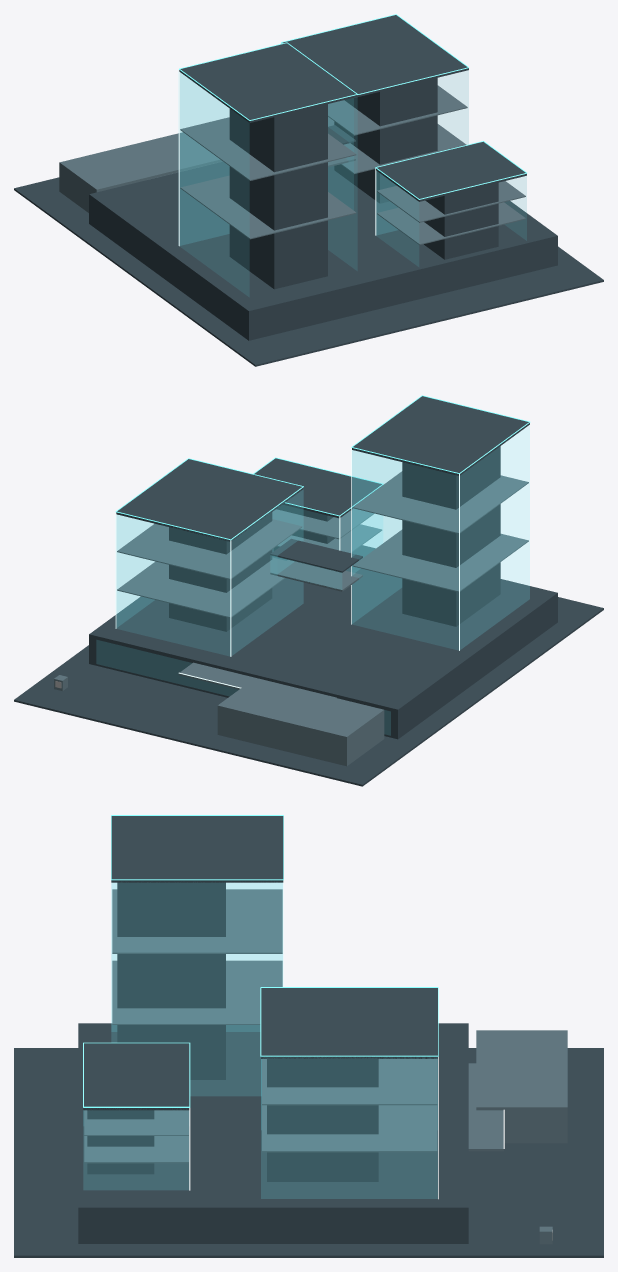
Rendered from commercial_buildings.lod1.glb.
3 renders of one model, top to bottom at view 1: azimuth 30°, elevation 25°; view 2: azimuth 150°, elevation 25°; view 3: azimuth 270°, elevation 25°, orthographic. The views are drawn at different scales.
Visible parts, largest first — view 1: commercial_buildings_graphite.001, commercial_buildings_glass.001, commercial_buildings_graphite_light.001, commercial_buildings_edge.001, commercial_buildings_white.001; view 2: commercial_buildings_graphite.001, commercial_buildings_glass.001, commercial_buildings_graphite_light.001, commercial_buildings_edge.001, commercial_buildings_white.001; view 3: commercial_buildings_graphite.001, commercial_buildings_glass.001, commercial_buildings_graphite_light.001, commercial_buildings_edge.001.
Part boxes in pixels (left/top/right/bottom): commercial_buildings_graphite.001: left=14, top=15, right=603, bottom=366; commercial_buildings_glass.001: left=179, top=70, right=526, bottom=296; commercial_buildings_graphite_light.001: left=59, top=85, right=525, bottom=245; commercial_buildings_edge.001: left=179, top=14, right=527, bottom=199; commercial_buildings_white.001: left=178, top=43, right=376, bottom=246; commercial_buildings_graphite.001: left=14, top=396, right=603, bottom=786; commercial_buildings_glass.001: left=97, top=425, right=529, bottom=735; commercial_buildings_graphite_light.001: left=54, top=471, right=528, bottom=766; commercial_buildings_edge.001: left=115, top=395, right=530, bottom=540; commercial_buildings_white.001: left=115, top=448, right=459, bottom=688; commercial_buildings_graphite.001: left=14, top=816, right=603, bottom=1257; commercial_buildings_glass.001: left=83, top=882, right=437, bottom=1198; commercial_buildings_graphite_light.001: left=84, top=889, right=567, bottom=1244; commercial_buildings_edge.001: left=83, top=815, right=438, bottom=1107.
Bounding box in the file's own units: 97 × 55.58 × 116.
